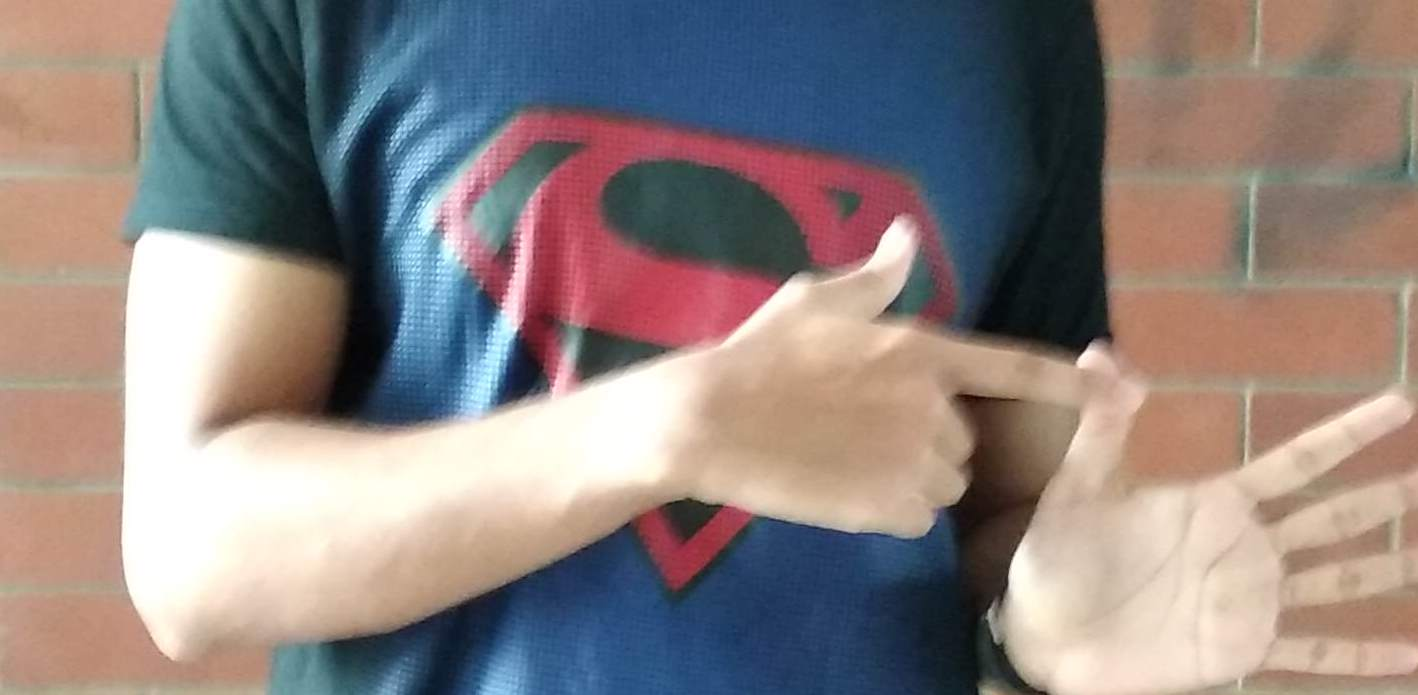a: (786, 218, 1414, 605)
